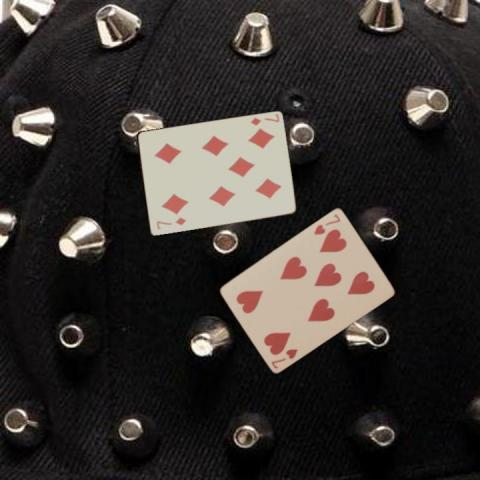7d: (154, 214, 188, 230), (247, 112, 281, 128)
7h: (311, 211, 342, 236), (268, 345, 299, 370)
